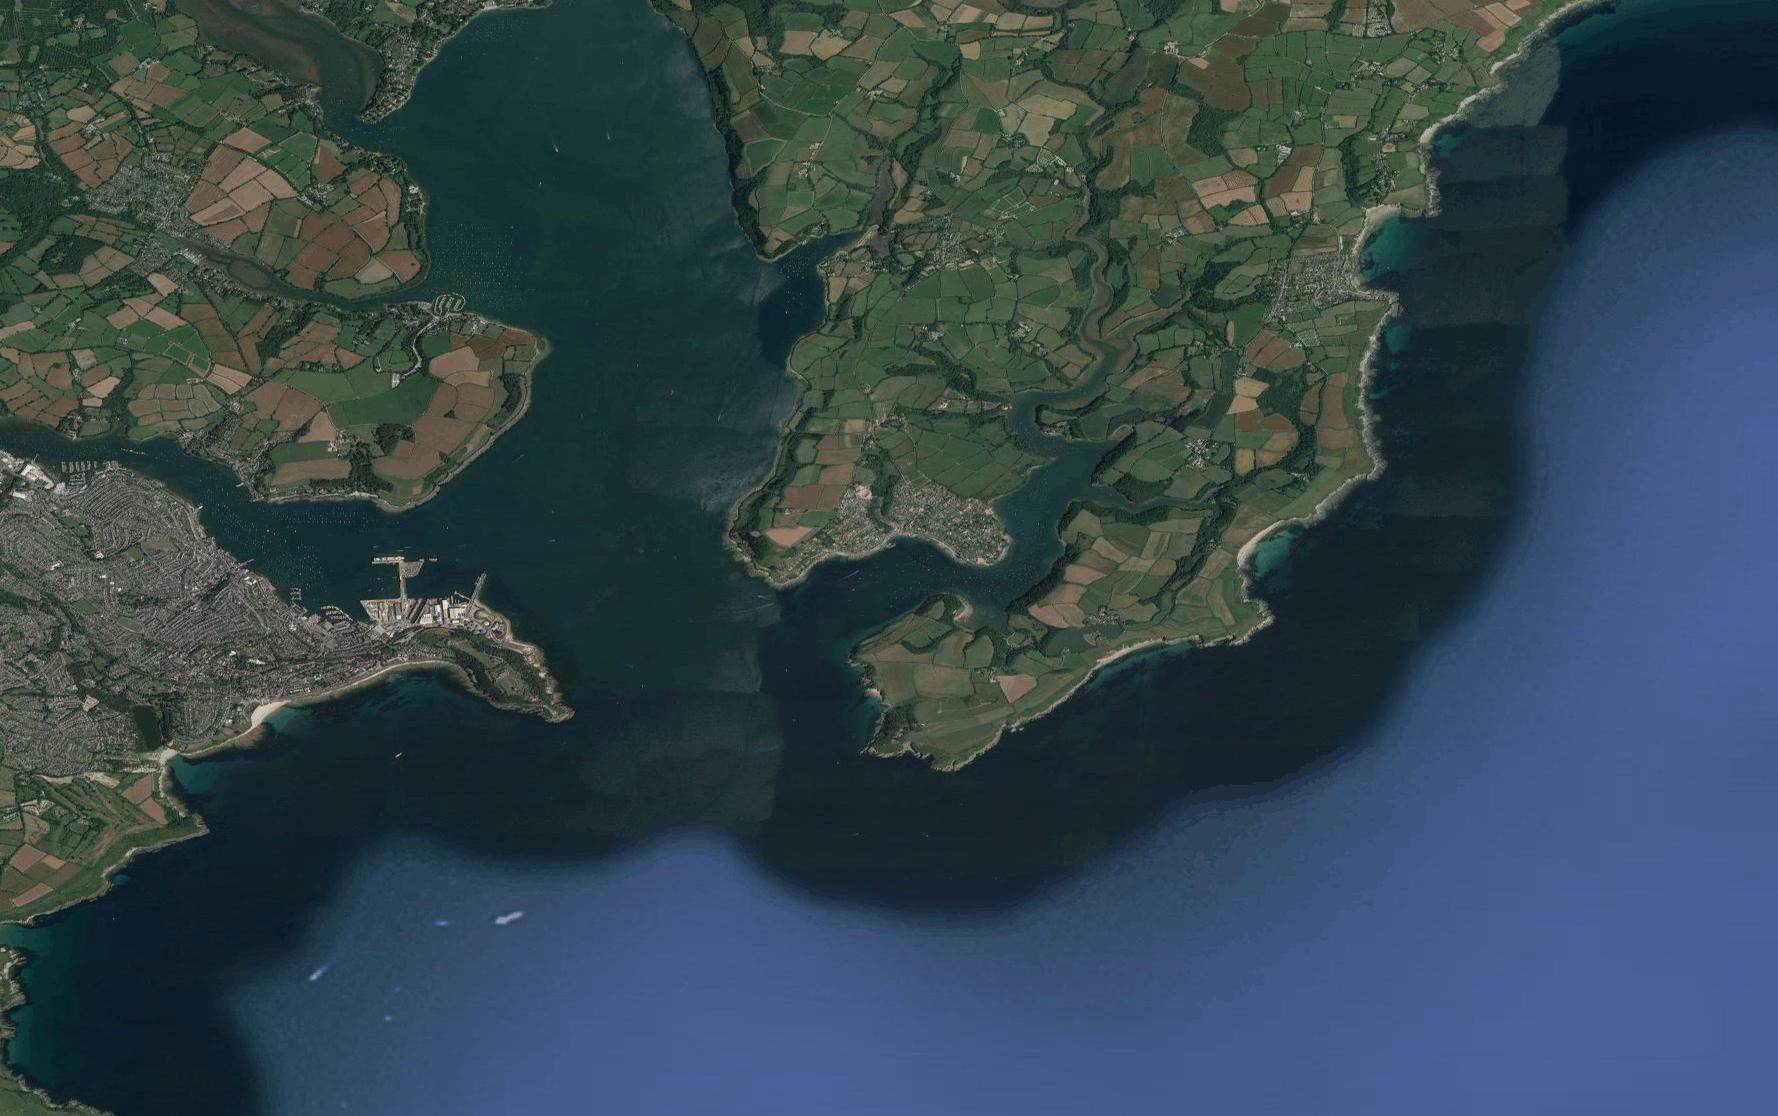harbor: (319, 541, 507, 645), (49, 450, 113, 507), (877, 536, 902, 557)
